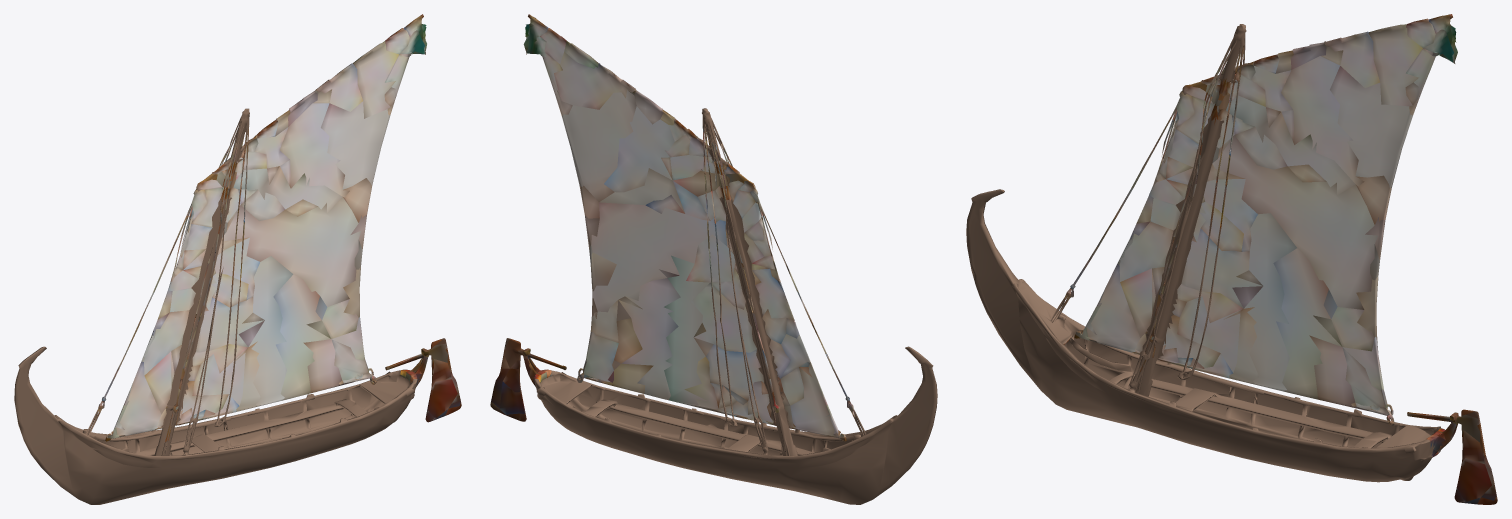
The model's file is moliceiro.glb.
The picture shows the model from 3 angles, left to right: view 1: azimuth 30°, elevation 25°; view 2: azimuth 150°, elevation 25°; view 3: azimuth 330°, elevation 25°; orthographic projection. The views are drawn at different scales.
Parts seen in each view (by area): view 1: Vela, lite_static, Leme; view 2: Vela, lite_static, Leme; view 3: Vela, lite_static, Leme.
Boxes of the visible parts, x1=… form: Vela: x1=97, y1=14, x2=426, y2=441; lite_static: x1=14, y1=108, x2=417, y2=504; Leme: x1=385, y1=338, x2=461, y2=422; Vela: x1=523, y1=14, x2=854, y2=441; lite_static: x1=534, y1=108, x2=937, y2=504; Leme: x1=490, y1=338, x2=566, y2=421; Vela: x1=1063, y1=14, x2=1457, y2=447; lite_static: x1=966, y1=24, x2=1444, y2=482; Leme: x1=1407, y1=409, x2=1497, y2=504.
Size of the model in its own units: 17.32 by 15.26 by 2.5.
Materials: 2 (1 with a texture image).
